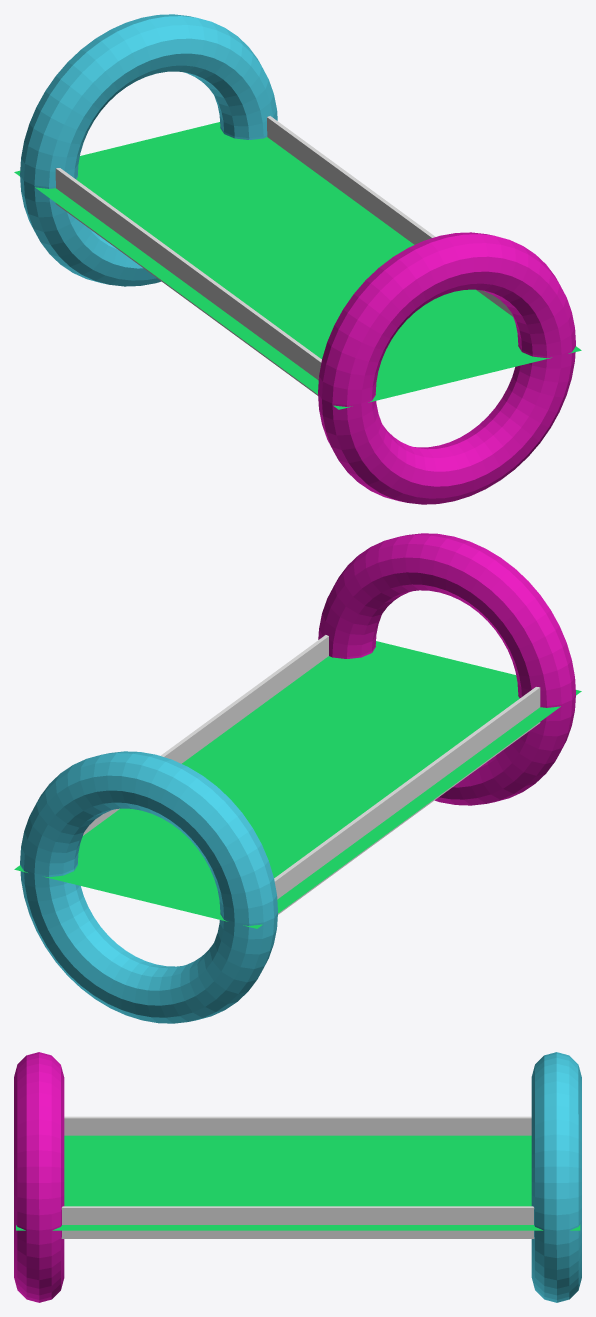
Rendered from place2.glb.
The picture shows the model from 3 angles, top to bottom: view 1: azimuth 30°, elevation 25°; view 2: azimuth 150°, elevation 25°; view 3: azimuth 270°, elevation 25°; orthographic projection. The views are drawn at different scales.
Visible parts, largest first — view 1: Plane, Torus, Torus.001, Cube.001, Cube; view 2: Plane, Torus.001, Torus, Cube.001, Cube; view 3: Plane, Cube, Torus, Torus.001, Cube.001.
Boxes of the visible parts, x1=… form: Plane: x1=14, y1=122, x2=581, y2=409; Torus: x1=318, y1=232, x2=575, y2=504; Torus.001: x1=20, y1=14, x2=277, y2=286; Cube.001: x1=55, y1=168, x2=321, y2=395; Cube: x1=267, y1=116, x2=512, y2=316; Plane: x1=14, y1=641, x2=581, y2=928; Torus.001: x1=20, y1=751, x2=277, y2=1023; Torus: x1=318, y1=533, x2=575, y2=805; Cube.001: x1=274, y1=687, x2=540, y2=914; Cube: x1=83, y1=635, x2=328, y2=835; Plane: x1=16, y1=1135, x2=580, y2=1230; Cube: x1=61, y1=1206, x2=534, y2=1238; Torus: x1=14, y1=1052, x2=64, y2=1302; Torus.001: x1=531, y1=1052, x2=581, y2=1302; Cube.001: x1=64, y1=1116, x2=531, y2=1135.
Bounding box in the file's own units: 52.61 × 52.61 × 119.
